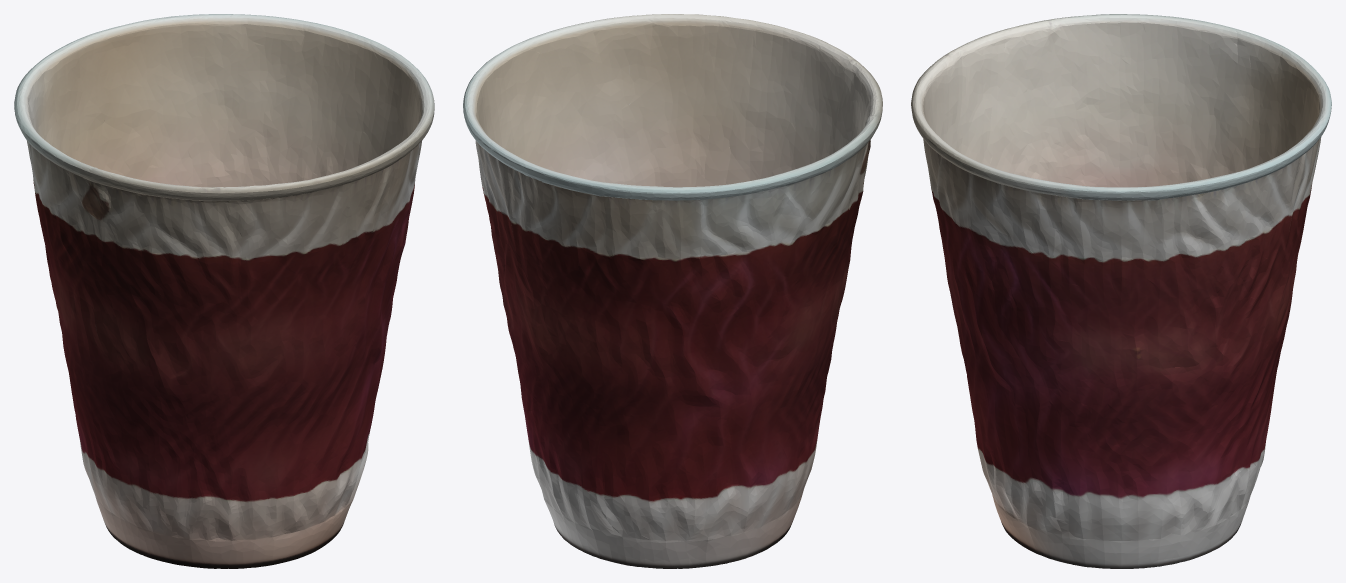
The model's file is redcup.glb.
3 renders of one model, left to right at view 1: azimuth 30°, elevation 25°; view 2: azimuth 150°, elevation 25°; view 3: azimuth 270°, elevation 25°, orthographic.
Parts seen in each view (by area): view 1: world; view 2: world; view 3: world.
Part boxes in pixels (x1,y1,x2,y2): world: (14,14,434,568); world: (463,14,882,568); world: (911,14,1331,568).
Size of the model in its own units: 0.9074 by 0.9949 by 0.9076.
Materials: 1 (1 with a texture image).
